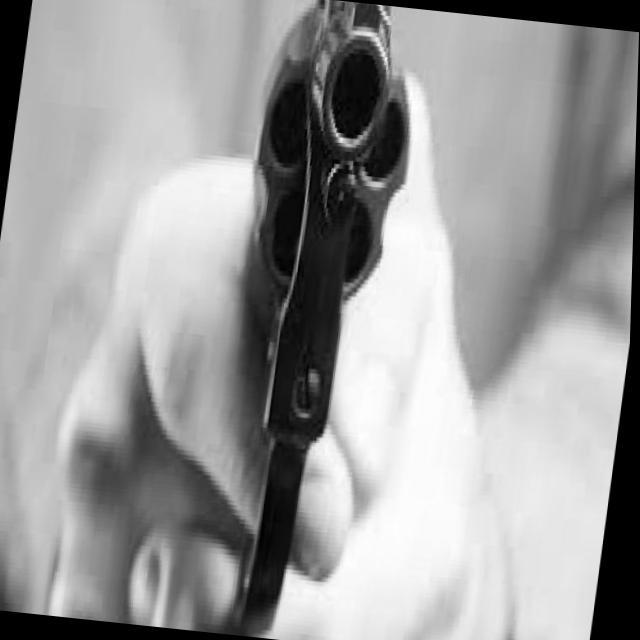weapon: (189, 0, 429, 640)
